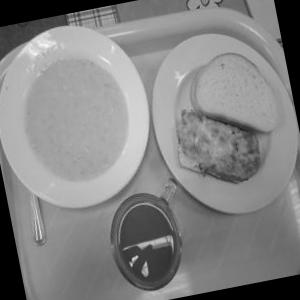bread: (170, 34, 294, 151)
cheese_sandwich: (164, 91, 270, 196)
coffee: (93, 179, 197, 300)
porridge: (1, 42, 148, 198)
